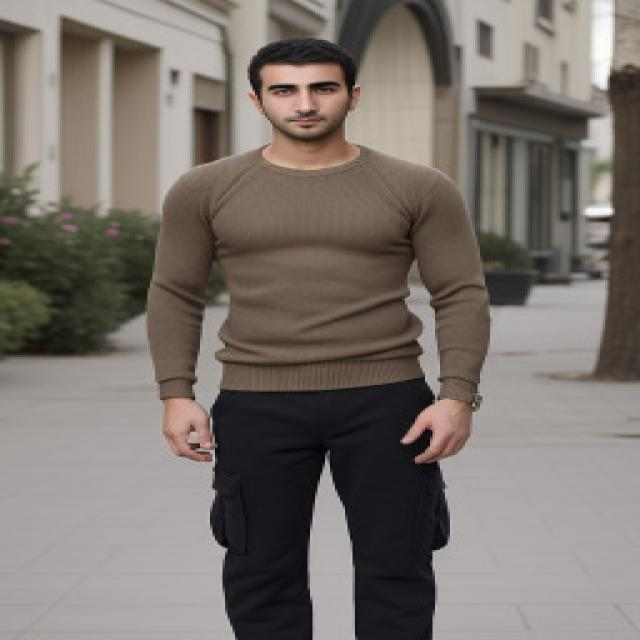Ai human 2: (134, 30, 505, 640)
